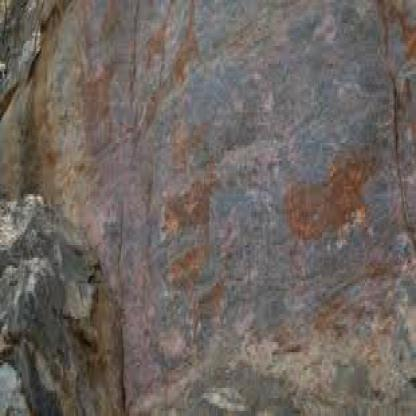Metamorphic_Quartize: (4, 5, 415, 414)
